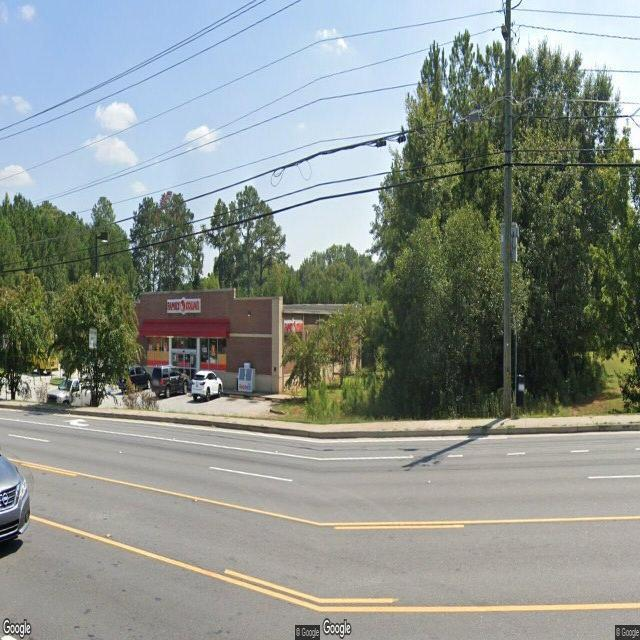trash_can: (516, 374, 526, 408)
